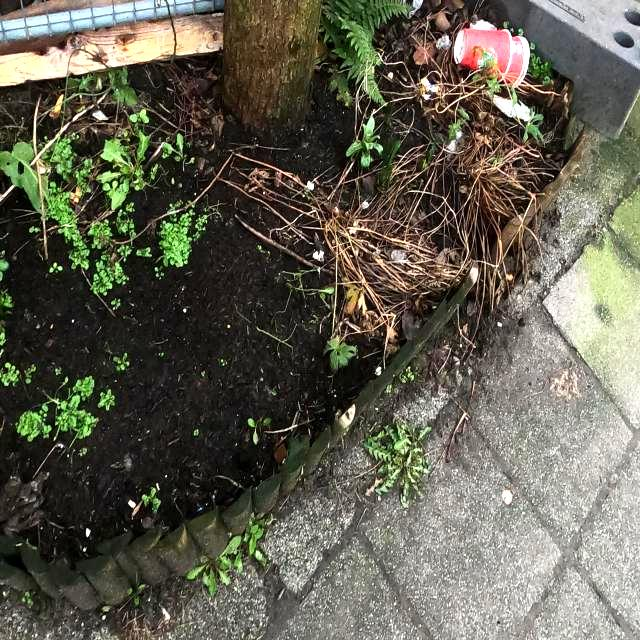Coffee Cup: (450, 21, 542, 90)
